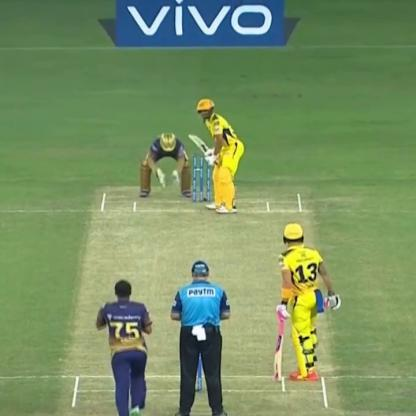bat: (182, 126, 218, 164)
pitch: (62, 194, 327, 415)
